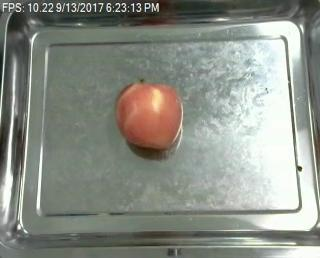apple: (114, 79, 183, 149)
